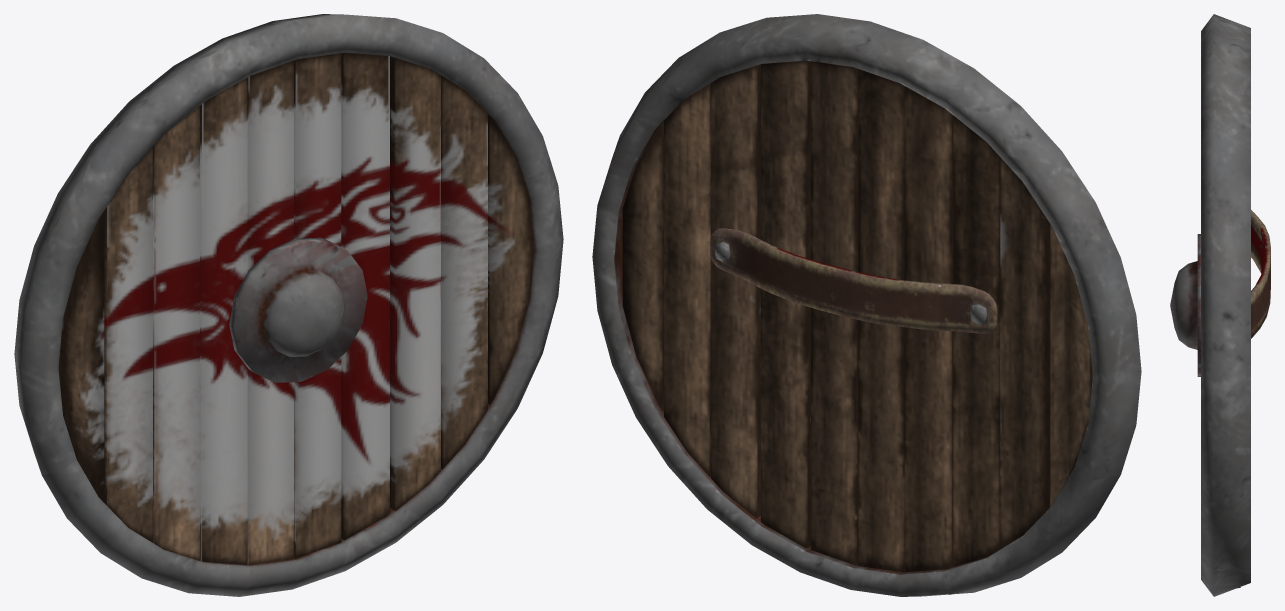
Rendered from shield_raven.glb.
3 views of the same model, side by side, from view 1: azimuth 30°, elevation 25°; view 2: azimuth 150°, elevation 25°; view 3: azimuth 270°, elevation 25° (orthographic). The views are drawn at different scales.
Visible parts, largest first — view 1: shield.001; view 2: shield.001; view 3: shield.001.
Part boxes in pixels (box(x1,y1,x2,y2)): shield.001: box(14, 14, 563, 596); shield.001: box(592, 14, 1141, 596); shield.001: box(1170, 14, 1270, 596).
Size of the model in its own units: 0.8001 by 0.8001 by 0.1382.
Materials: 1 (1 with a texture image).
